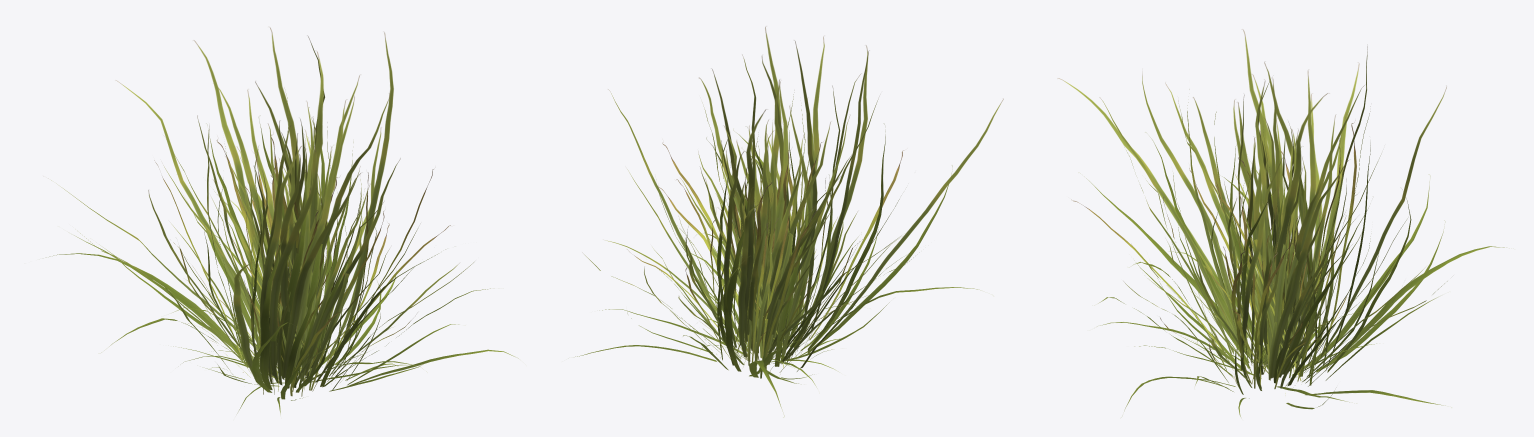
The model's file is grass.glb.
3 views of the same model, side by side, from view 1: azimuth 30°, elevation 25°; view 2: azimuth 150°, elevation 25°; view 3: azimuth 270°, elevation 25° (orthographic). The views are drawn at different scales.
Visible parts, largest first — view 1: Grass1; view 2: Grass1; view 3: Grass1.
Boxes of the visible parts, x1,y1,x2,y2 form: Grass1: [49, 27, 518, 414]; Grass1: [575, 27, 1003, 417]; Grass1: [1057, 29, 1506, 416].
Size of the model in its own units: 0.7104 by 0.6071 by 0.7709.
Materials: 3 (3 with a texture image).
